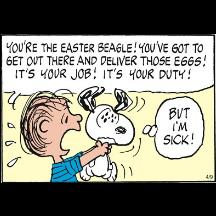snoopy: (76, 84, 136, 182)
